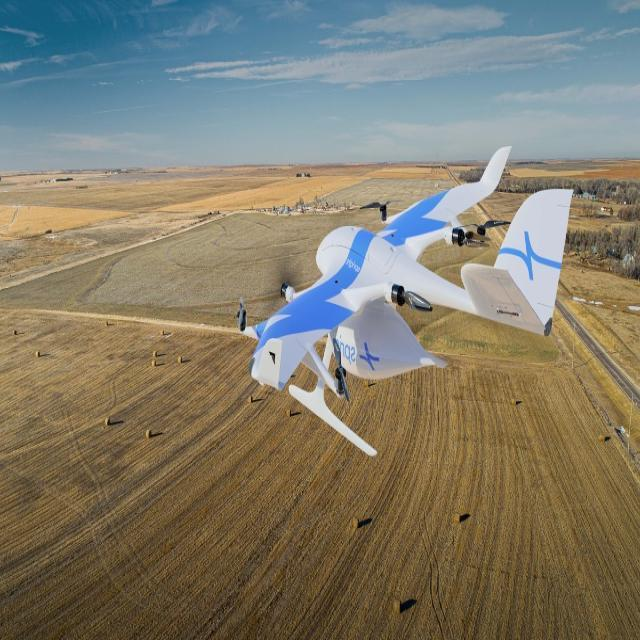iha: (229, 128, 582, 452)
